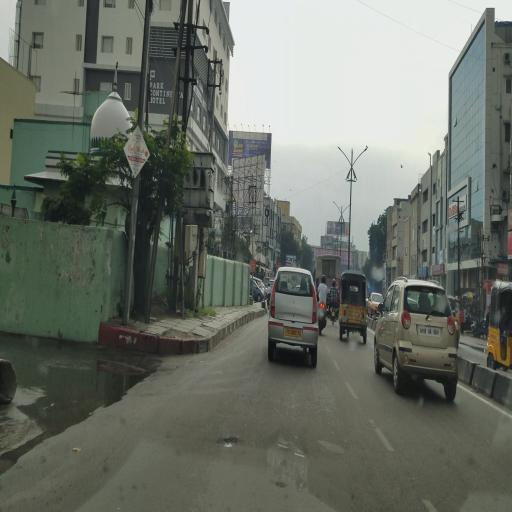street_light_0: (348, 141, 374, 177), (330, 137, 356, 173), (340, 199, 354, 223), (329, 200, 343, 224)
